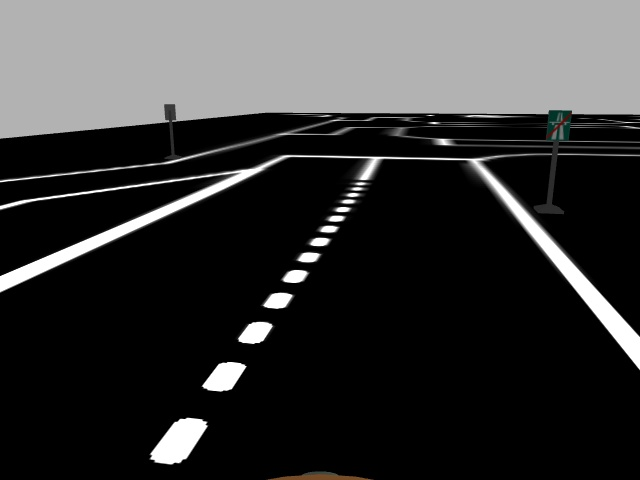leave_highway: (543, 109, 571, 142)
